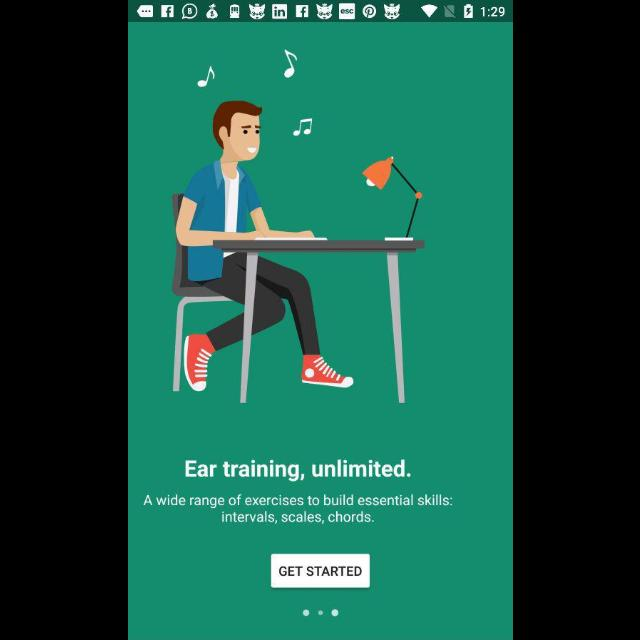image: (170, 48, 428, 404)
pageindicator: (302, 608, 338, 618)
text: (142, 493, 452, 525), (184, 458, 412, 482)
textbutton: (270, 554, 370, 588)
uppertaskbar: (128, 1, 512, 23)
